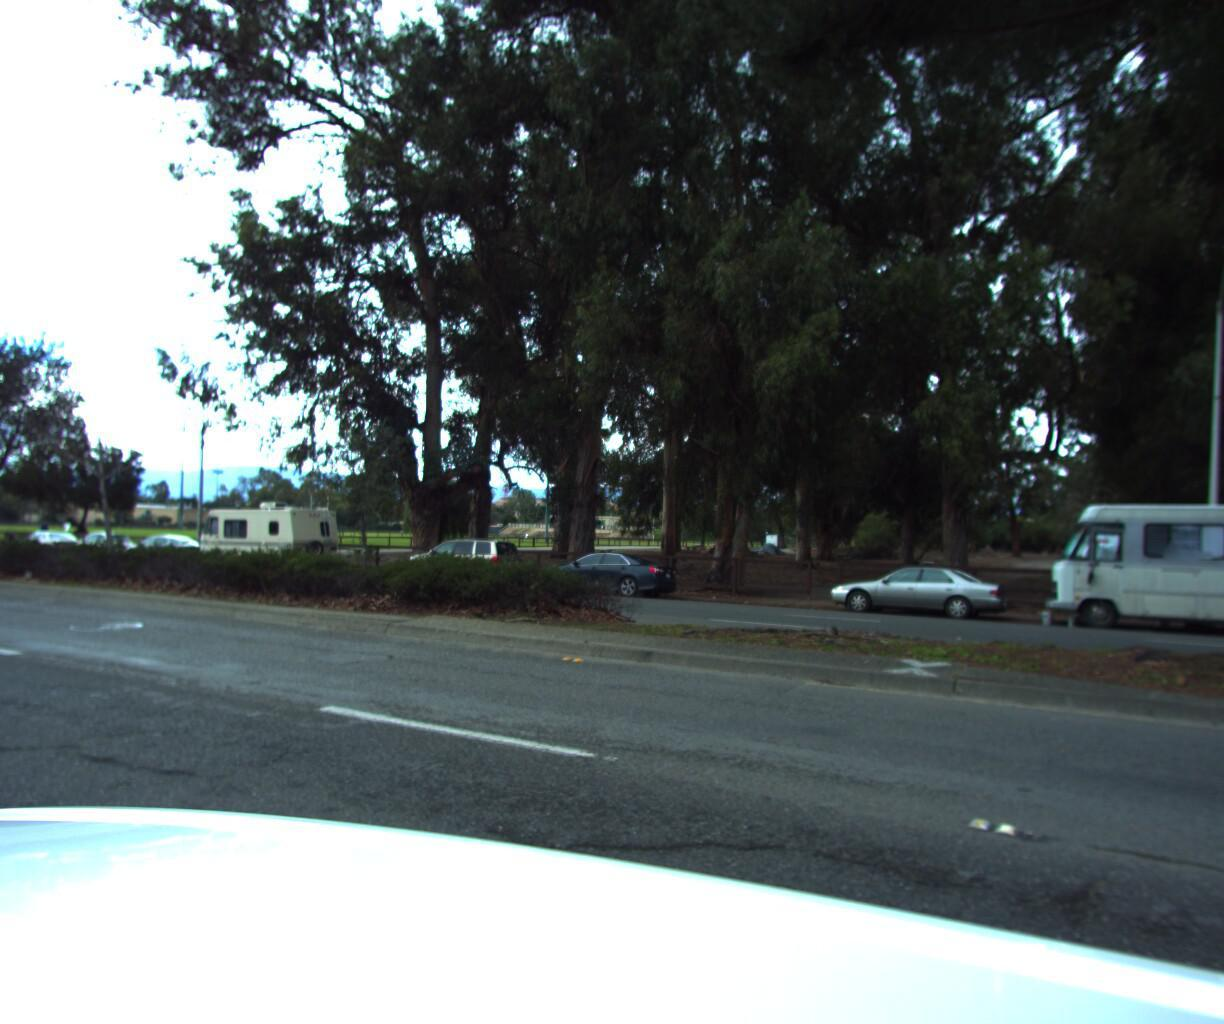car: (817, 556, 1013, 624), (528, 544, 685, 598), (390, 529, 531, 587), (111, 529, 213, 568), (63, 523, 141, 560), (3, 526, 89, 557)
other_vehicle: (1038, 480, 1224, 675), (185, 493, 350, 574)
